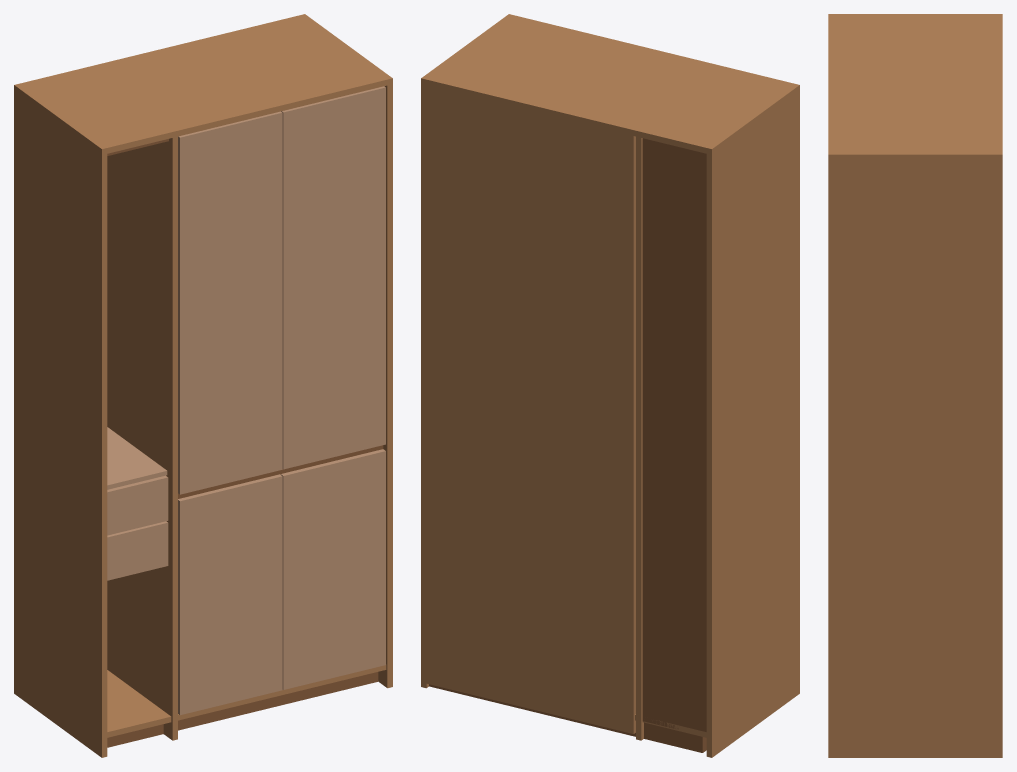
Rendered from entryway-niche-cabinet.glb.
3 views of the same model, side by side, from view 1: azimuth 30°, elevation 25°; view 2: azimuth 150°, elevation 25°; view 3: azimuth 270°, elevation 25° (orthographic).
Parts seen in each view (by area): view 1: structure-assembly; view 2: structure-assembly; view 3: structure-assembly.
Part boxes in pixels (x1,y1,x2,y2): structure-assembly: (14,14,392,757); structure-assembly: (421,14,799,757); structure-assembly: (828,14,1002,757).
Size of the model in its own units: 1.3 by 2.6 by 0.68.
